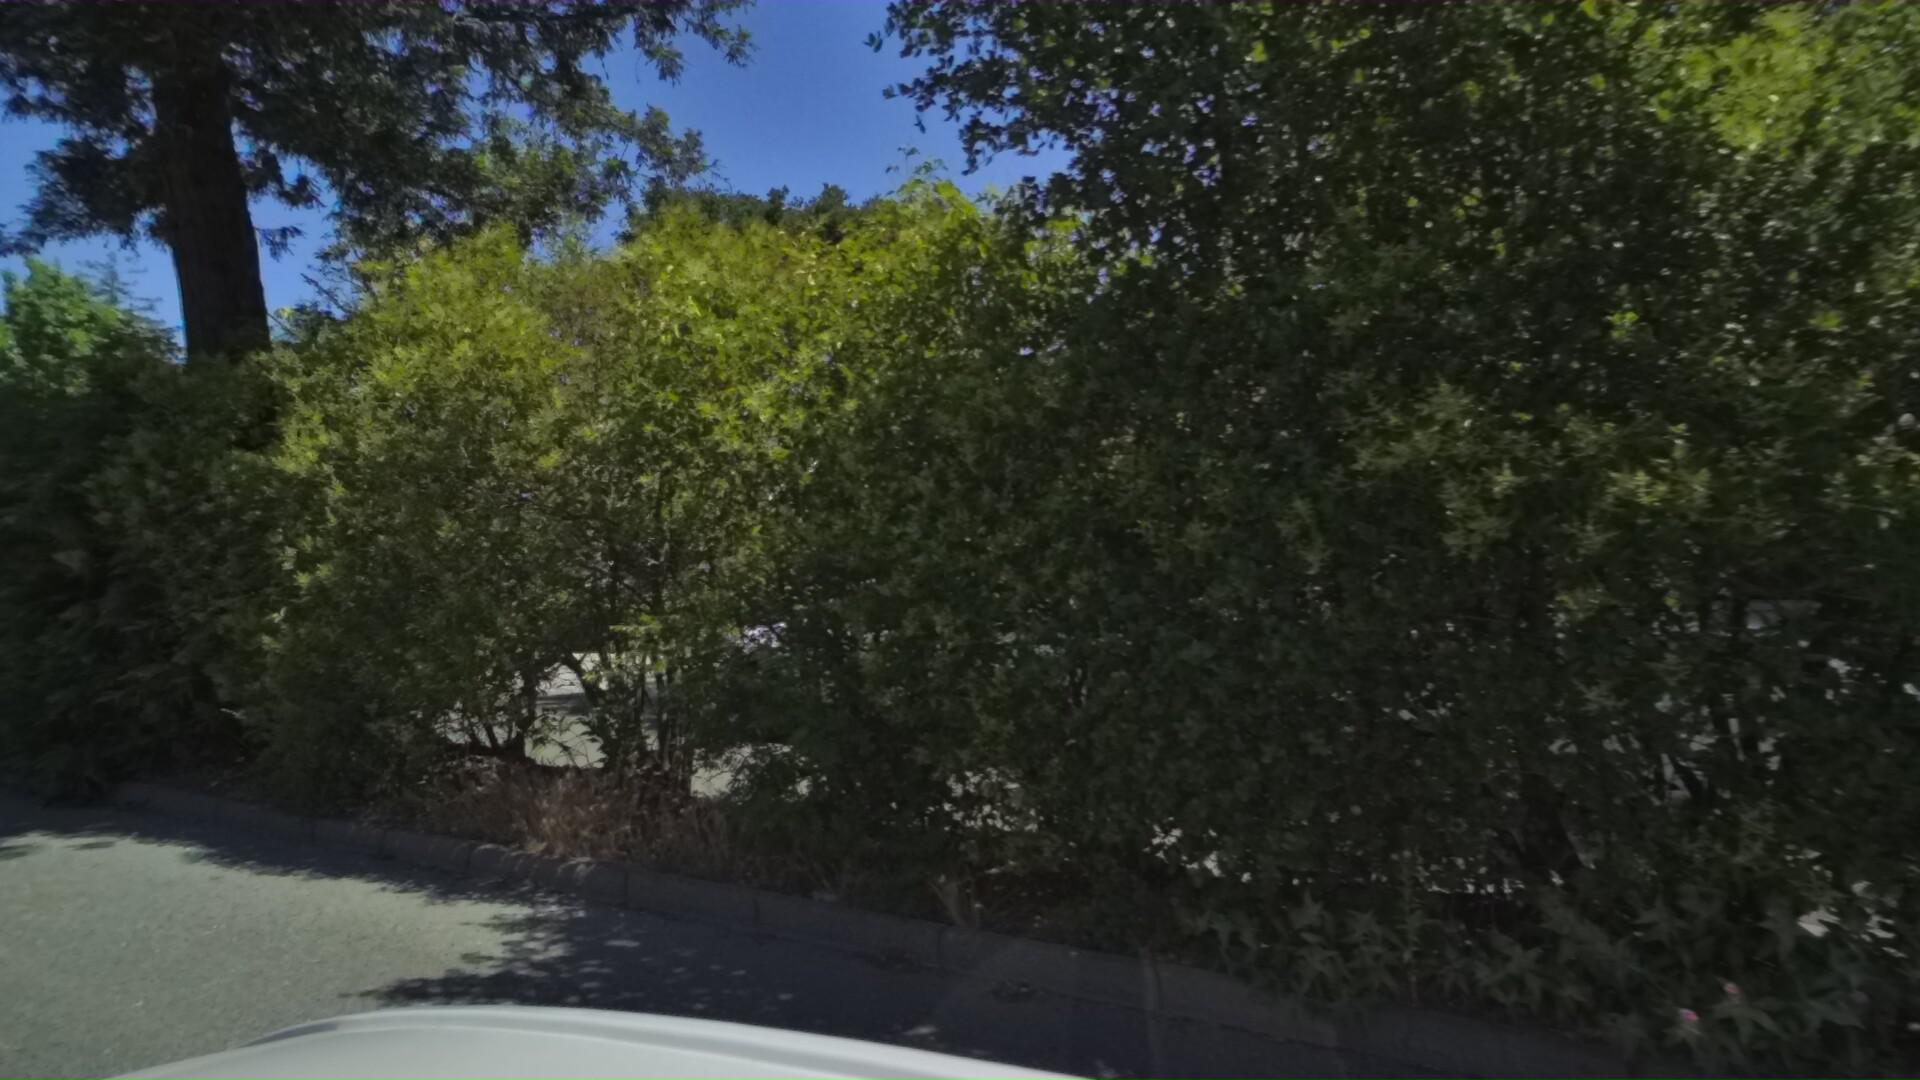car: (1323, 576, 1920, 910), (723, 551, 1280, 793)
